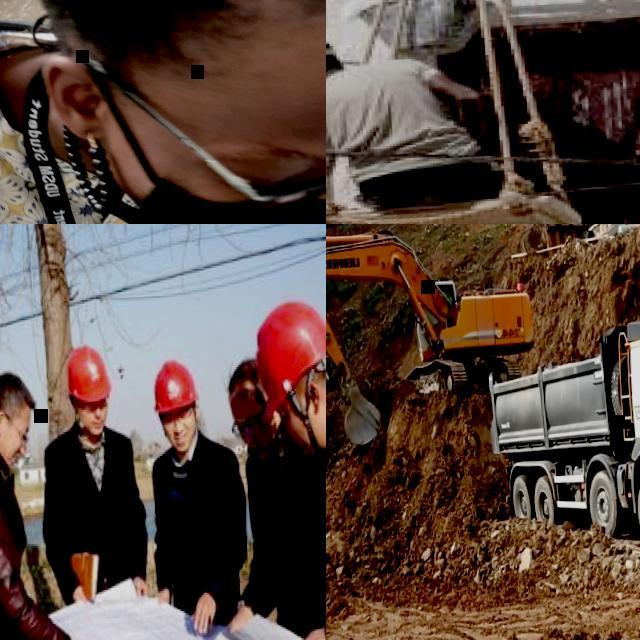helmet: (253, 300, 326, 424), (64, 344, 112, 405), (150, 358, 200, 416), (326, 32, 345, 76)
